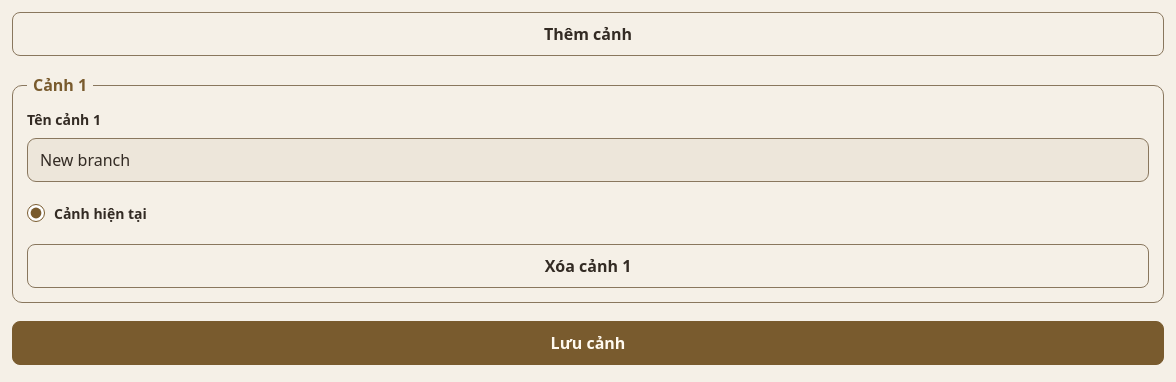
Test: SceneEditor › ignores a stale branch response after the new branch draft is edited
The image size is (1176, 382).
Step 1. Type " draft" into the field showing "New branch" → (588, 160), box [27,138,1149,182]
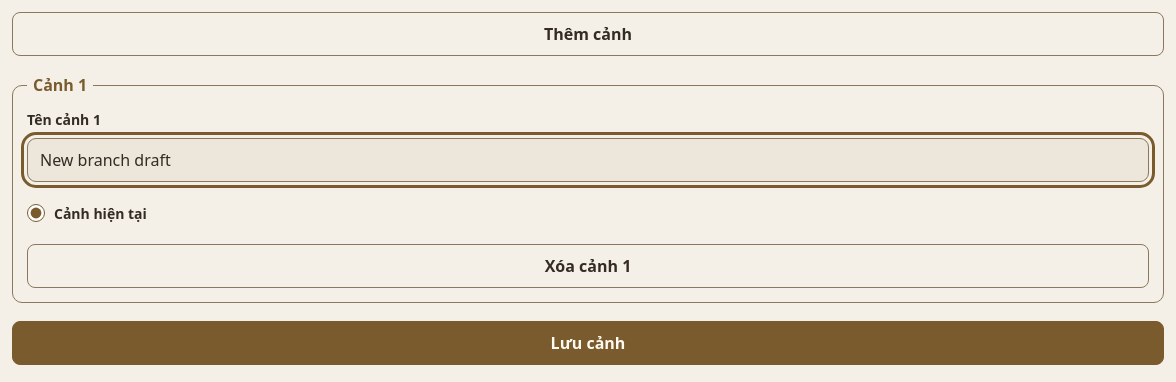
Result: the field showing "New branch draft" is shown at [27,138,1149,182]
